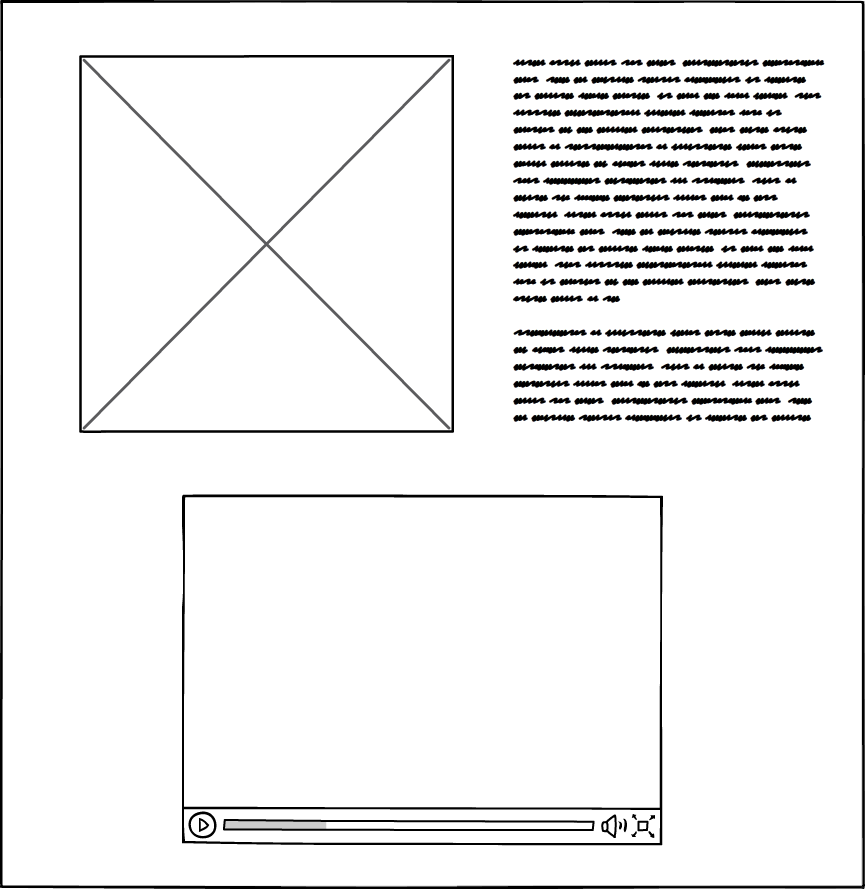image: (74, 50, 464, 440)
p: (506, 55, 828, 432)
video: (174, 488, 668, 855)
